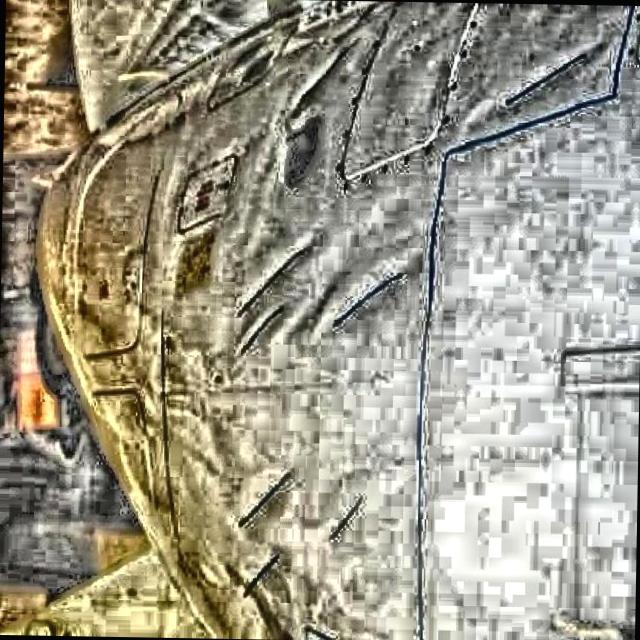dent: (463, 36, 607, 136), (235, 231, 324, 363), (286, 32, 362, 122), (242, 466, 292, 534)
